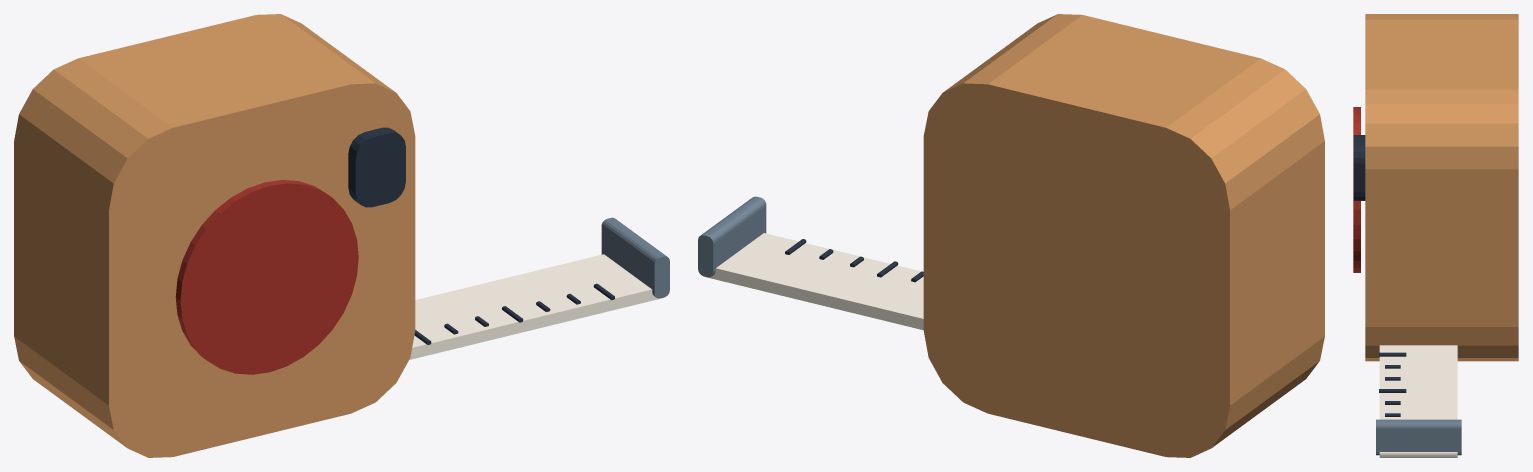
The model's file is taperule.glb.
3 renders of one model, left to right at view 1: azimuth 30°, elevation 25°; view 2: azimuth 150°, elevation 25°; view 3: azimuth 270°, elevation 25°, orthographic. The views are drawn at different scales.
Parts seen in each view (by area): view 1: housing, case inset, blade, lock button, end hook; view 2: housing, blade, end hook; view 3: housing, blade, end hook, case inset, lock button.
Boxes of the visible parts, x1,y1,x2,y2 form: housing: (14, 14, 415, 457); case inset: (175, 180, 358, 374); blade: (409, 254, 664, 359); lock button: (348, 127, 405, 207); end hook: (601, 217, 669, 298); housing: (923, 14, 1324, 457); blade: (703, 233, 923, 330); end hook: (698, 196, 766, 277); housing: (1365, 14, 1518, 361); blade: (1379, 345, 1457, 457); end hook: (1376, 419, 1461, 455); case inset: (1353, 107, 1360, 272); lock button: (1353, 135, 1365, 200).
Bounding box in the file's own units: 2.04 × 1.13 × 0.637.
